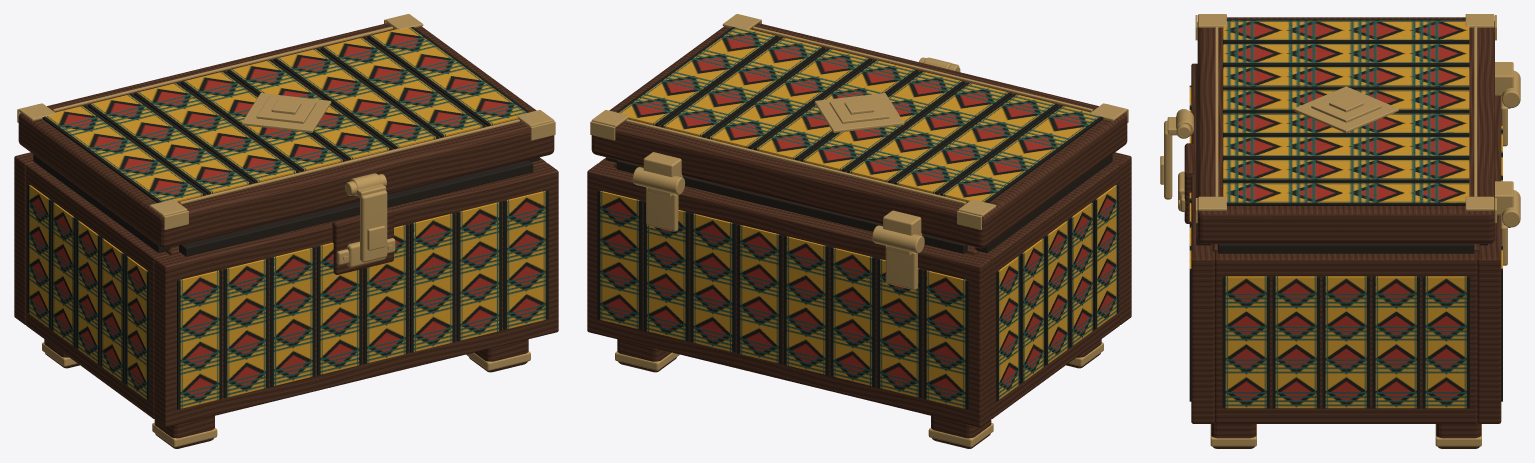
File: ghana.glb
The picture shows the model from 3 angles, left to right: view 1: azimuth 30°, elevation 25°; view 2: azimuth 150°, elevation 25°; view 3: azimuth 270°, elevation 25°; orthographic projection. The views are drawn at different scales.
Visible parts, largest first — view 1: Lid / polished slab, Cocoa / long wall, Cocoa / side wall, Kente / body strip.002, Kente / body strip.005, Kente / body strip.001, Kente / body strip.006, Kente / body strip.007, Kente / body strip, Kente / lid strip 6, Kente / lid strip 1, Kente / lid strip 2 (+25 smaller); view 2: Lid / polished slab, Cocoa / long wall.001, Cocoa / side wall, Kente / body strip.010, Kente / body strip.013, Kente / body strip.012, Kente / body strip.015, Kente / body strip.011, Kente / body strip.008, Kente / lid strip 6, Kente / lid strip 1, Kente / lid strip 2 (+29 smaller); view 3: Lid / polished slab, Cocoa / side wall.001, Kente / side strip.005, Kente / side strip.006, Kente / side strip.007, Kente / side strip.008, Kente / side strip.009, Kente / lid strip 1, Kente / lid strip 5, Kente / lid strip 6, Kente / lid strip 2, Kente / lid strip 0 (+25 smaller).
Part boxes in pixels (x1,y1,x2,y2): Lid / polished slab: (18,23,554,248); Cocoa / long wall: (154,163,558,427); Cocoa / side wall: (26,162,168,418); Kente / body strip.002: (270,247,315,386); Kente / body strip.005: (410,213,455,352); Kente / body strip.001: (223,258,268,398); Kente / body strip.006: (456,201,501,341); Kente / body strip.007: (503,190,548,329); Kente / body strip: (177,270,221,409); Kente / lid strip 6: (320,37,485,137); Kente / lid strip 1: (87,94,252,194); Kente / lid strip 2: (134,82,298,182); Lid / polished slab: (591,23,1127,248); Cocoa / long wall.001: (587,163,991,427); Cocoa / side wall: (977,162,1119,418); Kente / body strip.010: (830,247,875,386); Kente / body strip.013: (690,213,735,352); Kente / body strip.012: (737,224,782,363); Kente / body strip.015: (597,190,642,329); Kente / body strip.011: (784,235,828,375); Kente / body strip.008: (924,270,968,409); Kente / lid strip 6: (660,37,825,137); Kente / lid strip 1: (893,94,1058,194); Kente / lid strip 2: (847,82,1011,182); Lid / polished slab: (1197,17,1494,243); Cocoa / side wall.001: (1215,251,1477,423); Kente / side strip.005: (1222,276,1269,408); Kente / side strip.006: (1272,276,1319,408); Kente / side strip.007: (1322,276,1369,408); Kente / side strip.008: (1372,276,1419,408); Kente / side strip.009: (1422,276,1469,408); Kente / lid strip 1: (1223,42,1469,65); Kente / lid strip 5: (1223,135,1469,158); Kente / lid strip 6: (1223,158,1469,181); Kente / lid strip 2: (1223,65,1469,88); Kente / lid strip 0: (1223,19,1469,42).
Bounding box in the file's own units: 3.75 × 2.29 × 2.88.
4 materials, 2 textured.
